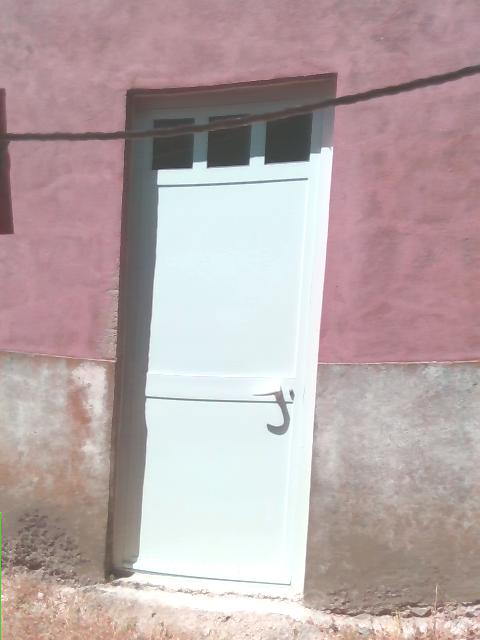closed_door: (105, 72, 341, 600)
